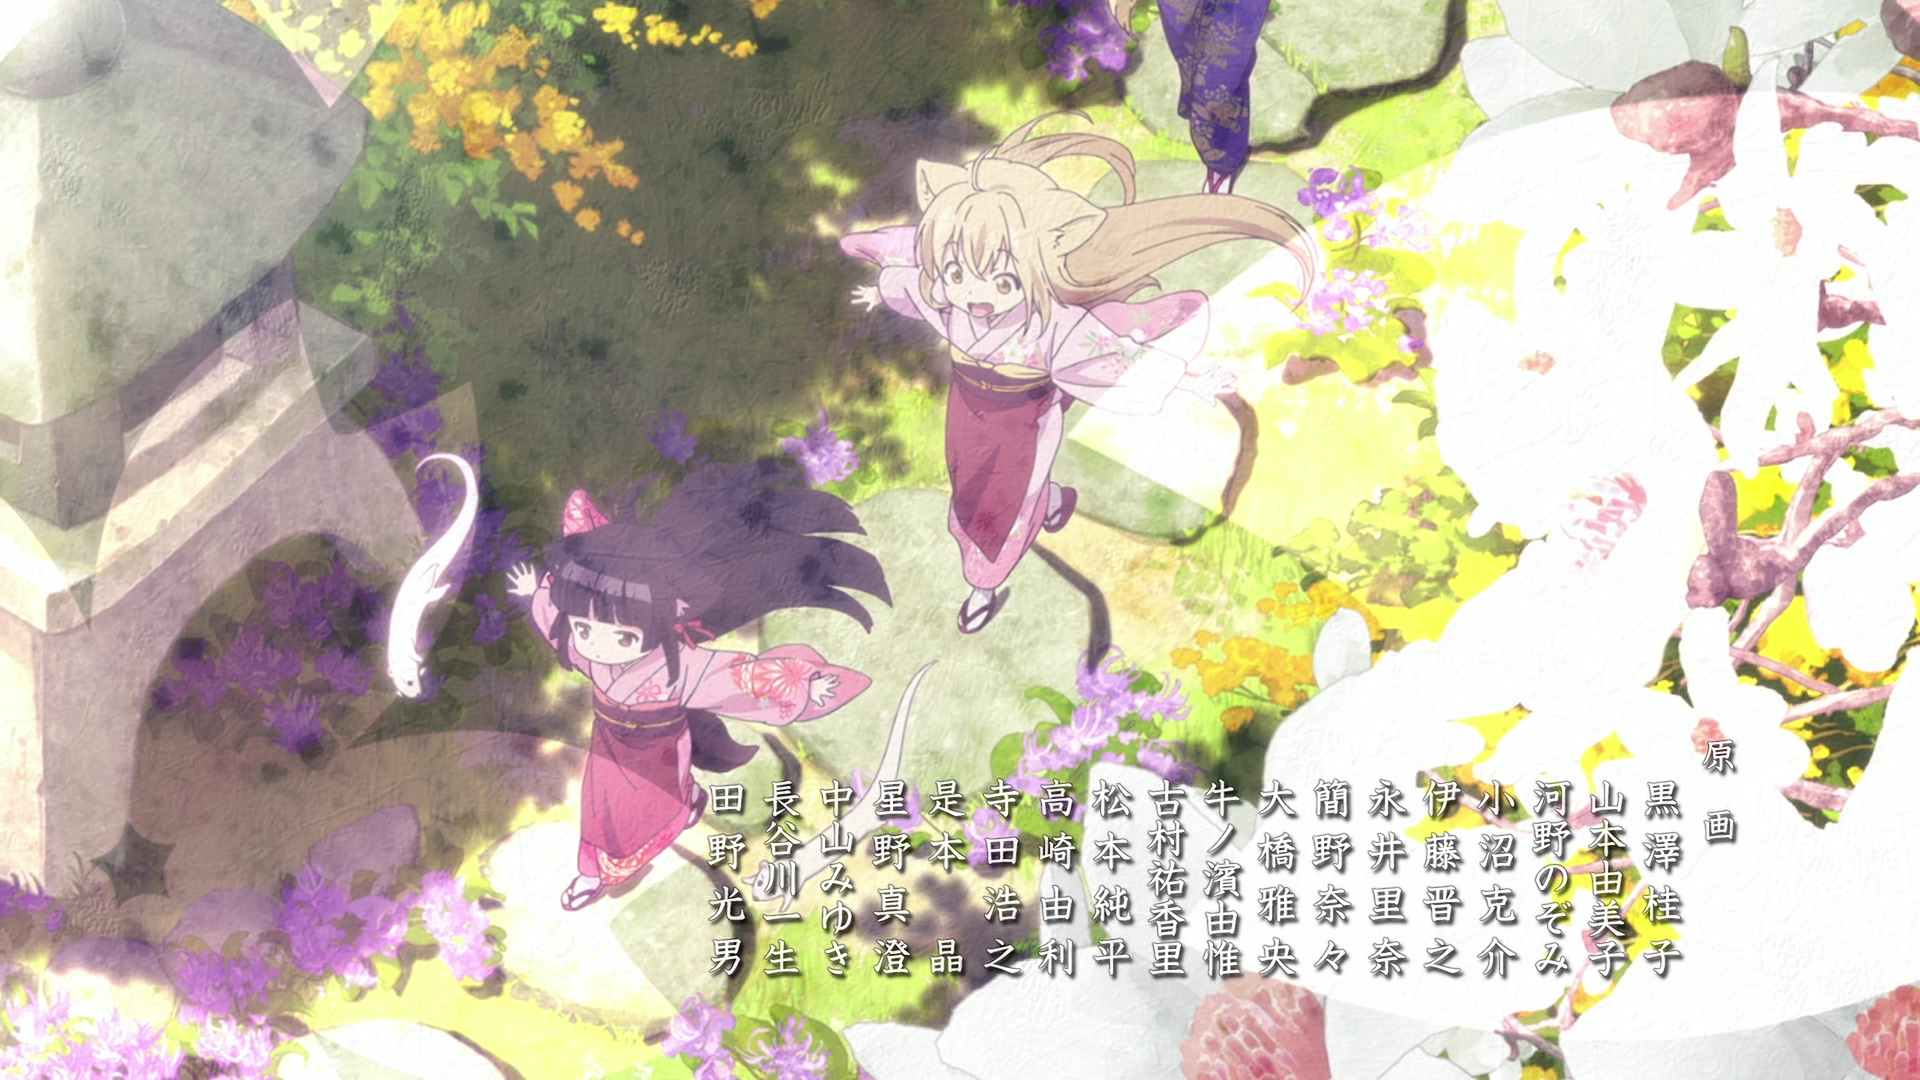柚: (840, 111, 1317, 636)
樱: (506, 462, 893, 913)
